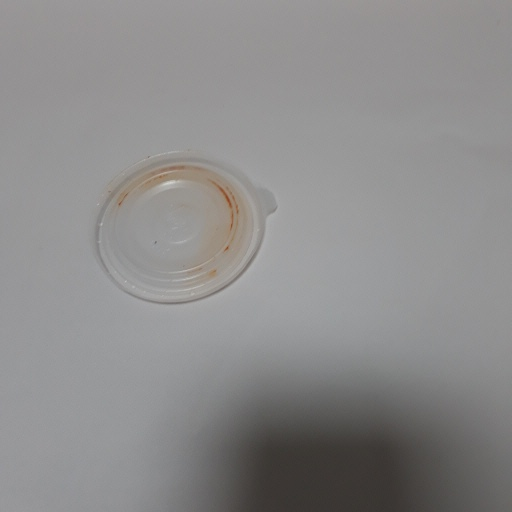Plastic_5: (90, 149, 278, 308)
